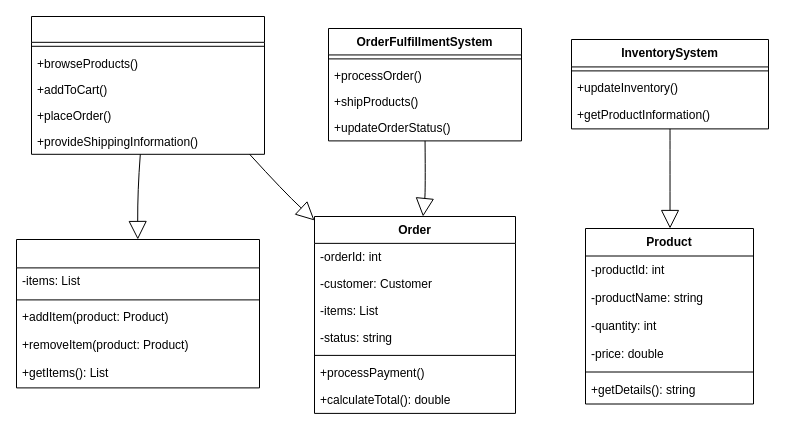
Some shapes in this 785 by 430 pixel diagram are drawn without their labels. Each missing label, with the box of its shape:
Customer: (30, 16, 264, 154)
ShoppingCart: (16, 238, 260, 388)
